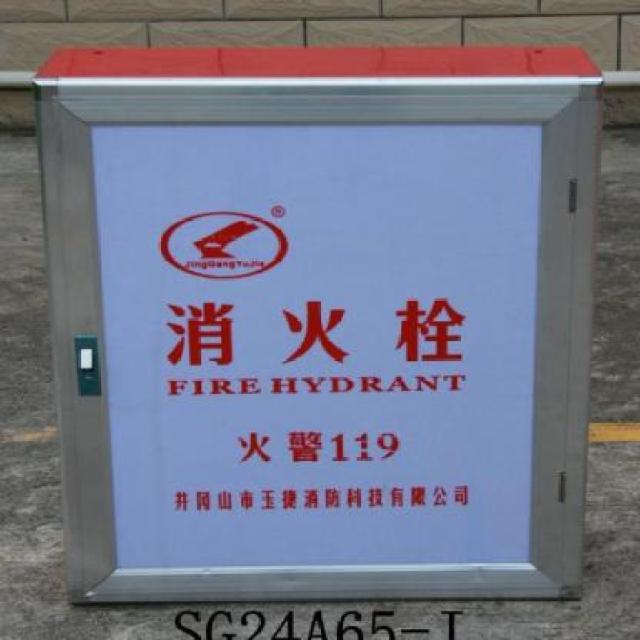firehydrant: (32, 42, 611, 610)
